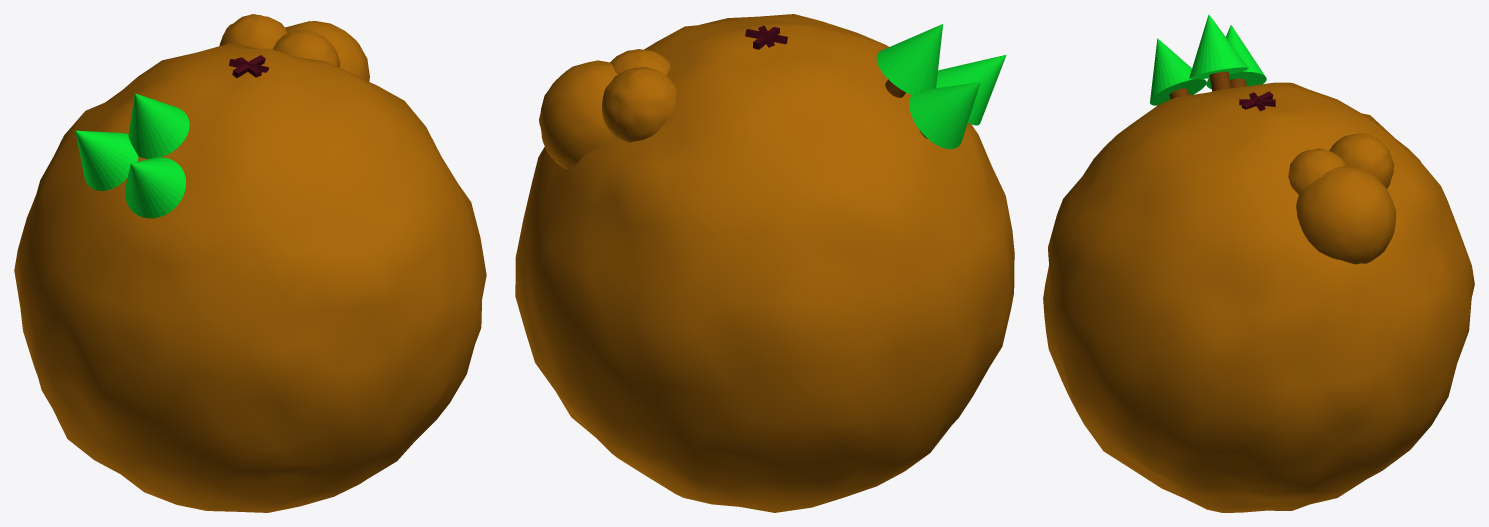
Rendered from level.fbx.
3 views of the same model, side by side, from view 1: azimuth 30°, elevation 25°; view 2: azimuth 150°, elevation 25°; view 3: azimuth 270°, elevation 25° (orthographic). The views are drawn at different scales.
Visible parts, largest first — view 1: Planetoid, Rocks, Tree.002, Tree, Tree.001, Fire; view 2: Planetoid, Rocks, Tree.001, Tree, Tree.002, Fire; view 3: Planetoid, Rocks, Tree, Tree.002, Tree.001.
Boxes of the visible parts, x1,y1,x2,y2 form: Planetoid: [14, 43, 486, 512]; Rocks: [219, 14, 369, 81]; Tree.002: [125, 157, 185, 218]; Tree: [128, 93, 189, 158]; Tree.001: [75, 130, 138, 190]; Fire: [229, 55, 268, 77]; Planetoid: [515, 14, 1014, 512]; Rocks: [539, 49, 676, 169]; Tree.001: [909, 82, 980, 149]; Tree: [876, 24, 942, 97]; Tree.002: [936, 54, 1006, 125]; Fire: [745, 25, 787, 49]; Planetoid: [1043, 82, 1474, 512]; Rocks: [1288, 133, 1395, 264]; Tree: [1189, 14, 1248, 91]; Tree.002: [1150, 38, 1206, 105]; Tree.001: [1206, 25, 1266, 88].
Size of the model in its own units: 201 by 215 by 201.
